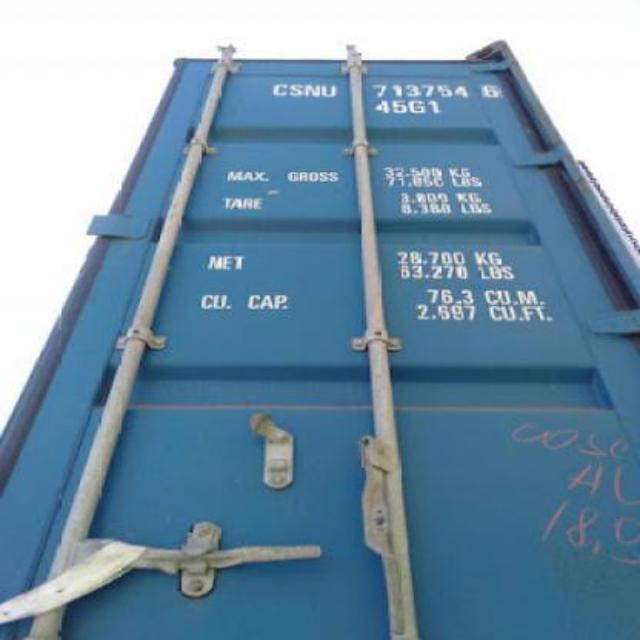1: (392, 84, 404, 98)
3: (406, 85, 419, 98)
4: (454, 85, 470, 98)
5: (438, 84, 454, 98)
6: (482, 85, 500, 98)
7: (420, 84, 436, 98), (372, 85, 388, 98)
C: (272, 82, 288, 96)
N: (306, 84, 322, 98)
S: (290, 84, 304, 96)
U: (322, 85, 338, 98)
